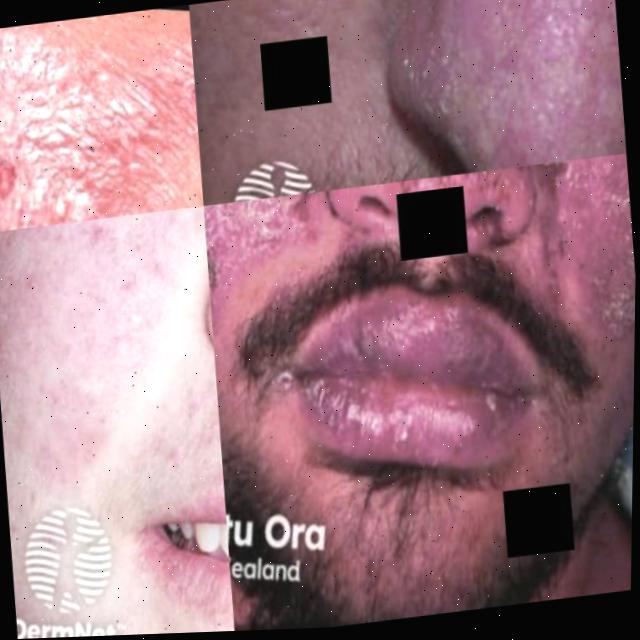lupus-detected: (199, 151, 637, 481), (252, 258, 636, 566), (0, 203, 238, 631), (0, 3, 206, 231), (403, 0, 628, 178)
